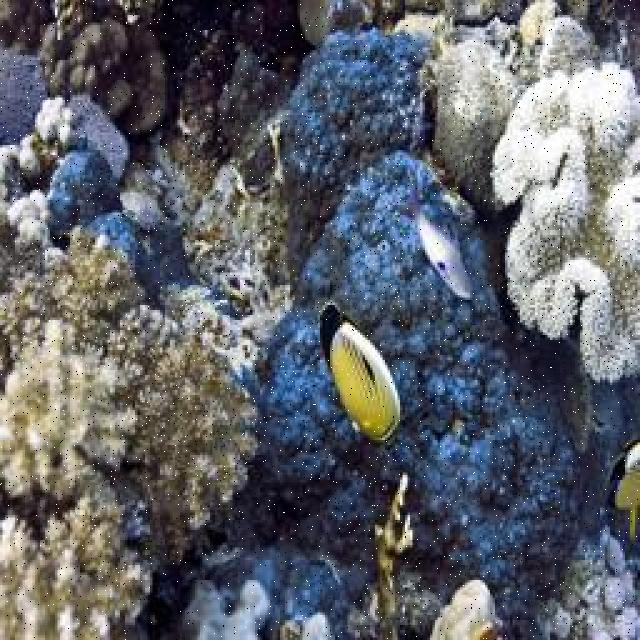aquatic plants: (375, 470, 413, 638)
fish: (317, 301, 400, 441), (405, 181, 473, 300), (606, 442, 638, 568)
reefs: (202, 150, 594, 638), (0, 227, 263, 638), (492, 62, 638, 383), (282, 26, 436, 291), (433, 14, 601, 211), (0, 95, 76, 228), (541, 532, 638, 635), (69, 95, 129, 180), (52, 149, 115, 227), (0, 49, 49, 145), (430, 579, 505, 638), (7, 194, 52, 242)
